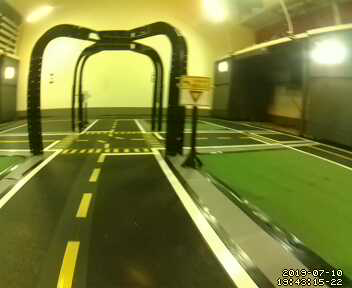Turn Yield: (180, 73, 212, 108)
